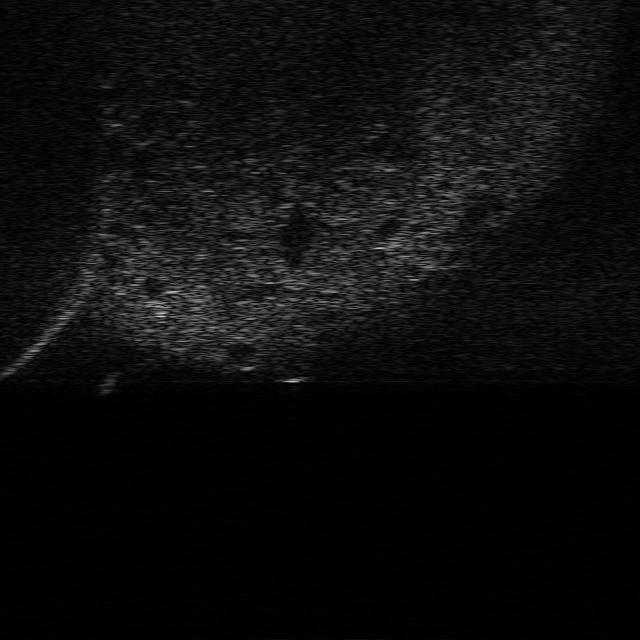cylinder: (96, 371, 122, 395)
